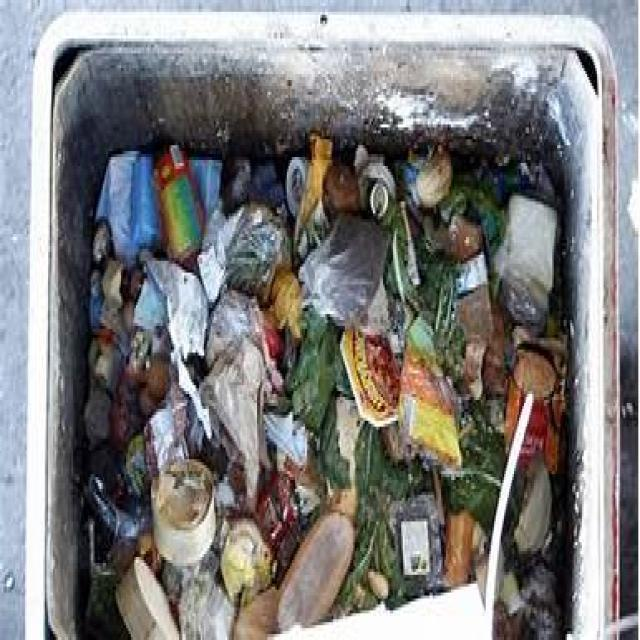Garbage: (79, 134, 569, 640)
Glass_bottle: (502, 194, 558, 332), (155, 145, 202, 261)
Metal: (85, 474, 139, 538)
Plastic: (199, 203, 290, 304), (389, 494, 442, 590)
Plastic_Bag: (299, 214, 386, 326)
can: (359, 163, 395, 221), (286, 156, 308, 217)
